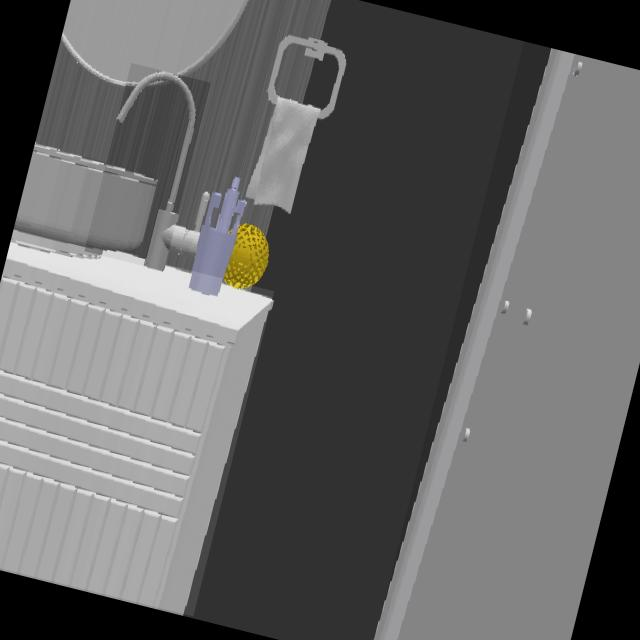cabinet: (0, 245, 271, 612)
shower: (375, 49, 640, 640)
washbasin: (117, 73, 195, 270), (13, 144, 155, 250)
